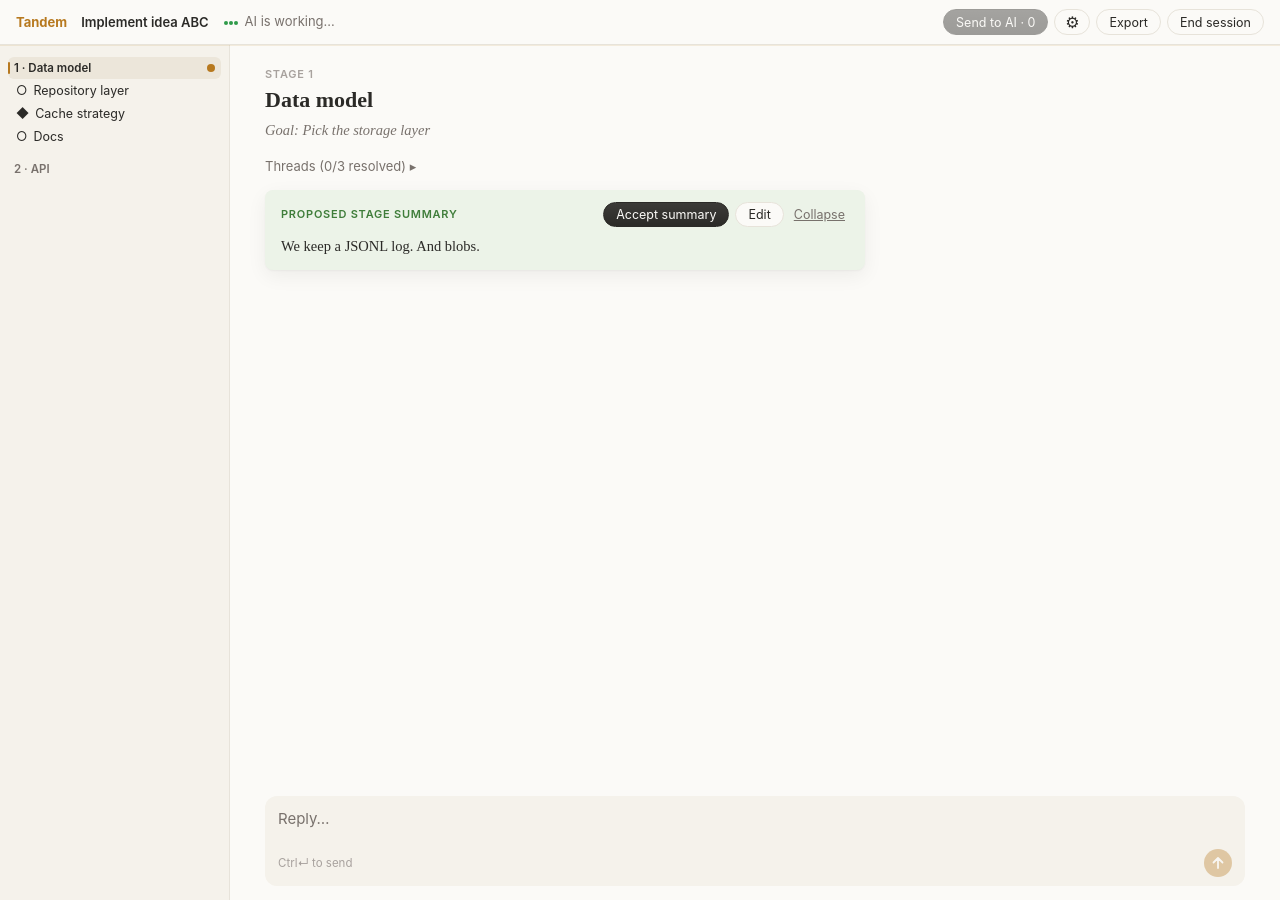
Test case: SessionPage keeps scroll and collapse across navigation (demo 7 follow-ups 3) › keeps a collapsed stage summary collapsed after leaving and coming back
This screenshot has width=1280, height=900.
Click the button "Collapse" at (819, 215), box x1=790 y1=205 x2=849 y2=224
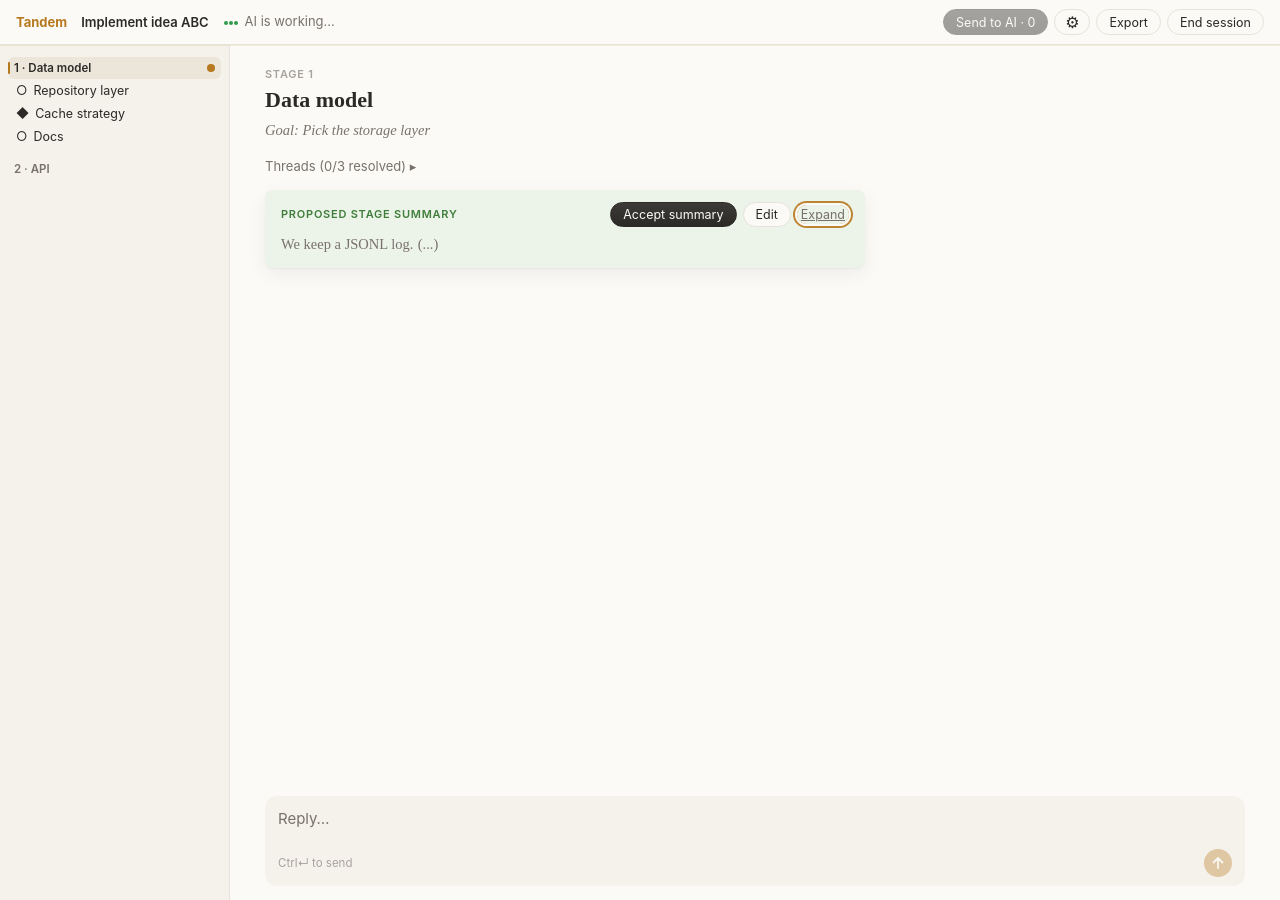
Type keys "j"
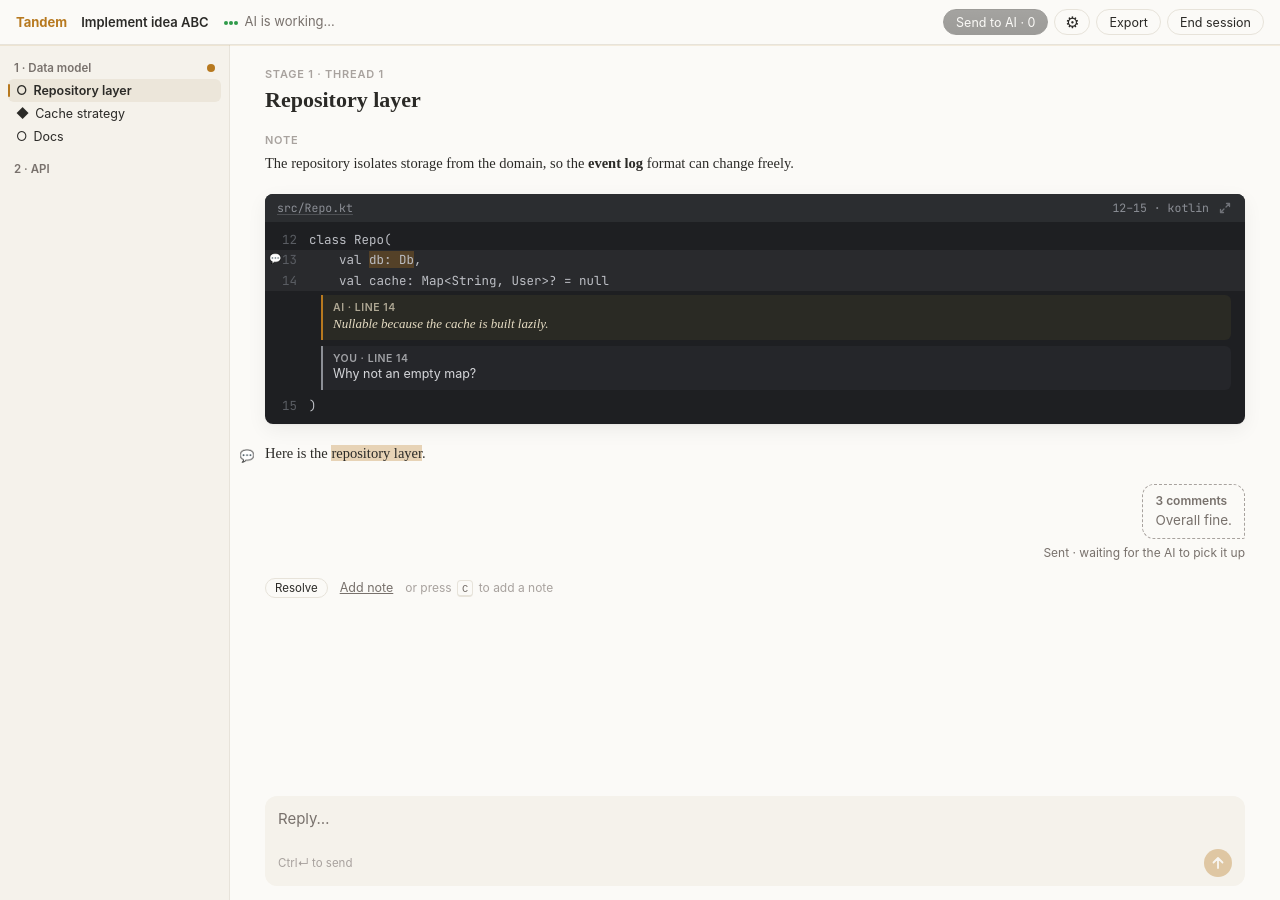
Type keys "k"
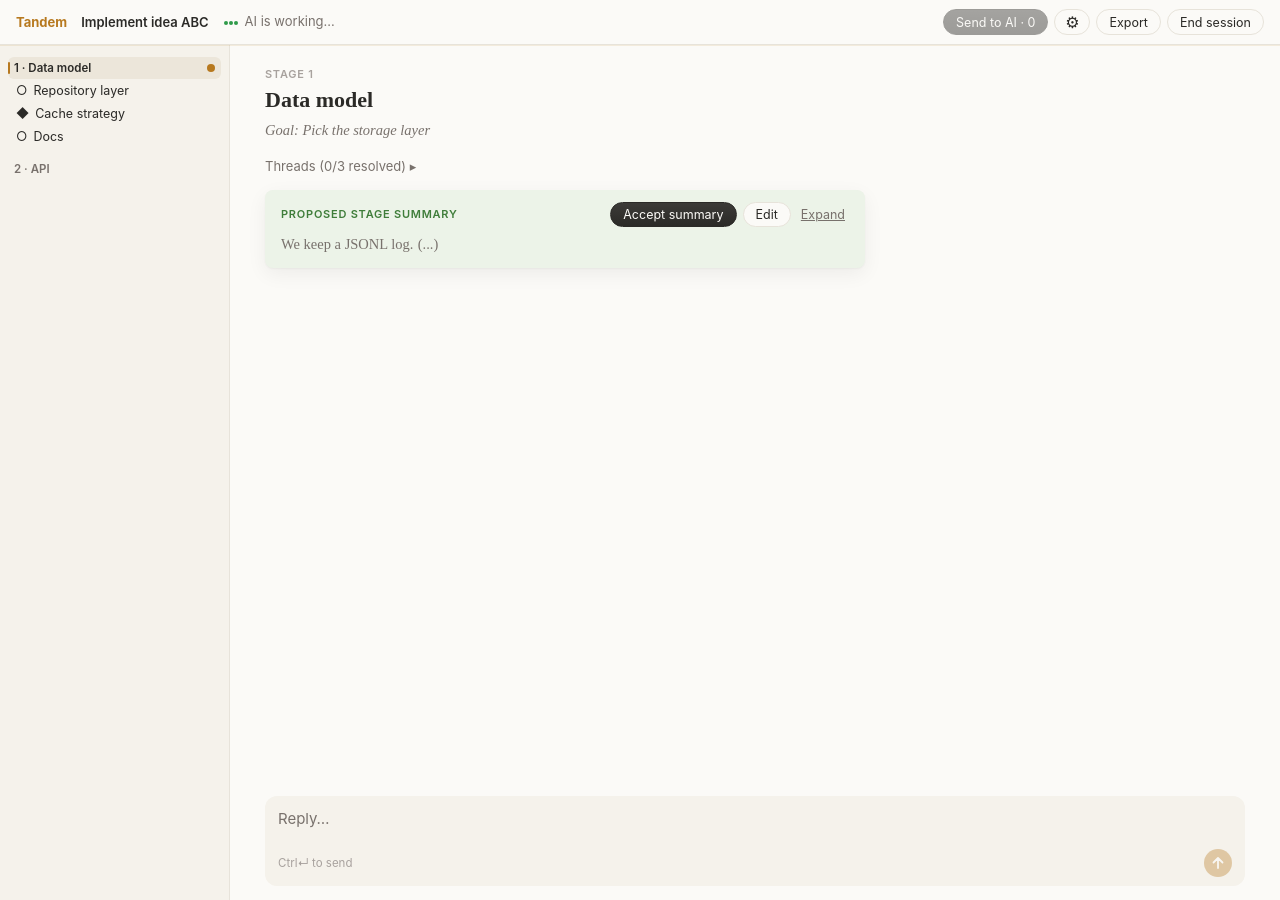
Expected: the button "Expand" is shown, x1=797 y1=205 x2=849 y2=224
